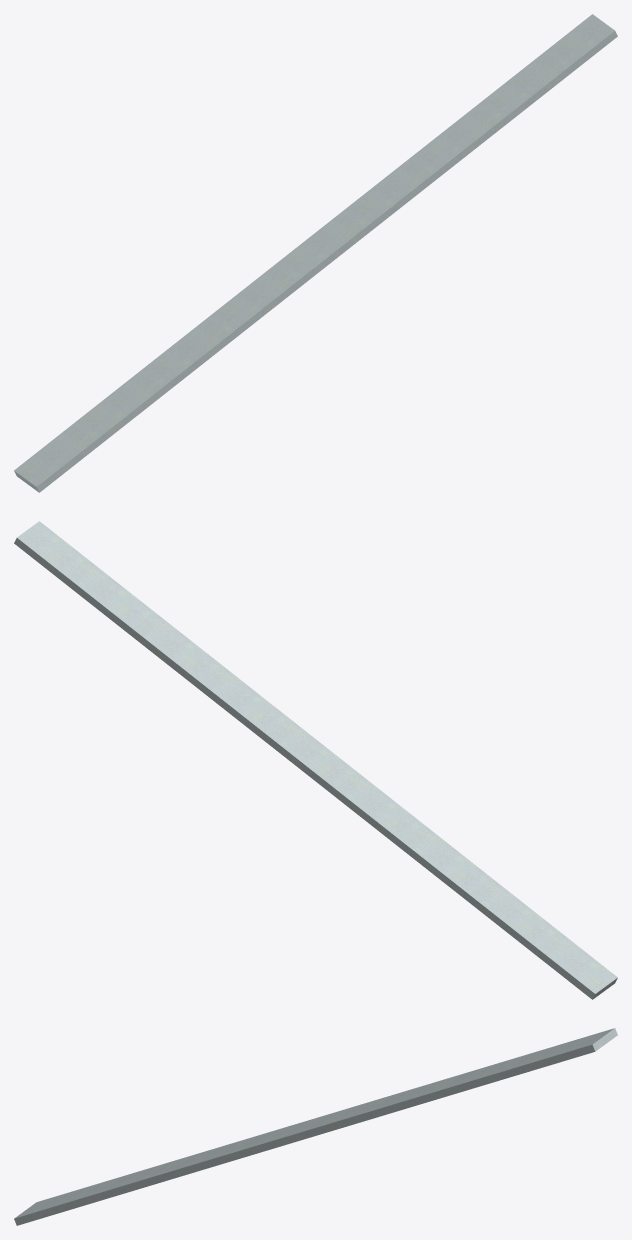
File: zcb001-geode.glb
3 views of the same model, one above another, from view 1: azimuth 30°, elevation 25°; view 2: azimuth 150°, elevation 25°; view 3: azimuth 330°, elevation 25° (orthographic).
Parts seen in each view (by area): view 1: Node; view 2: Node; view 3: Node.
Part boxes in pixels (<box>): Node: <box>14,14,617,492</box>; Node: <box>14,521,617,999</box>; Node: <box>14,1028,617,1225</box>.
Bounding box in the file's own units: 1.71 × 0.9037 × 0.1152.
1 material, 1 textured.
